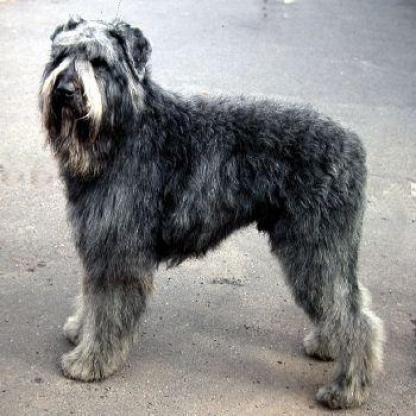Bouvier_des_Flandres: (33, 16, 385, 408)
